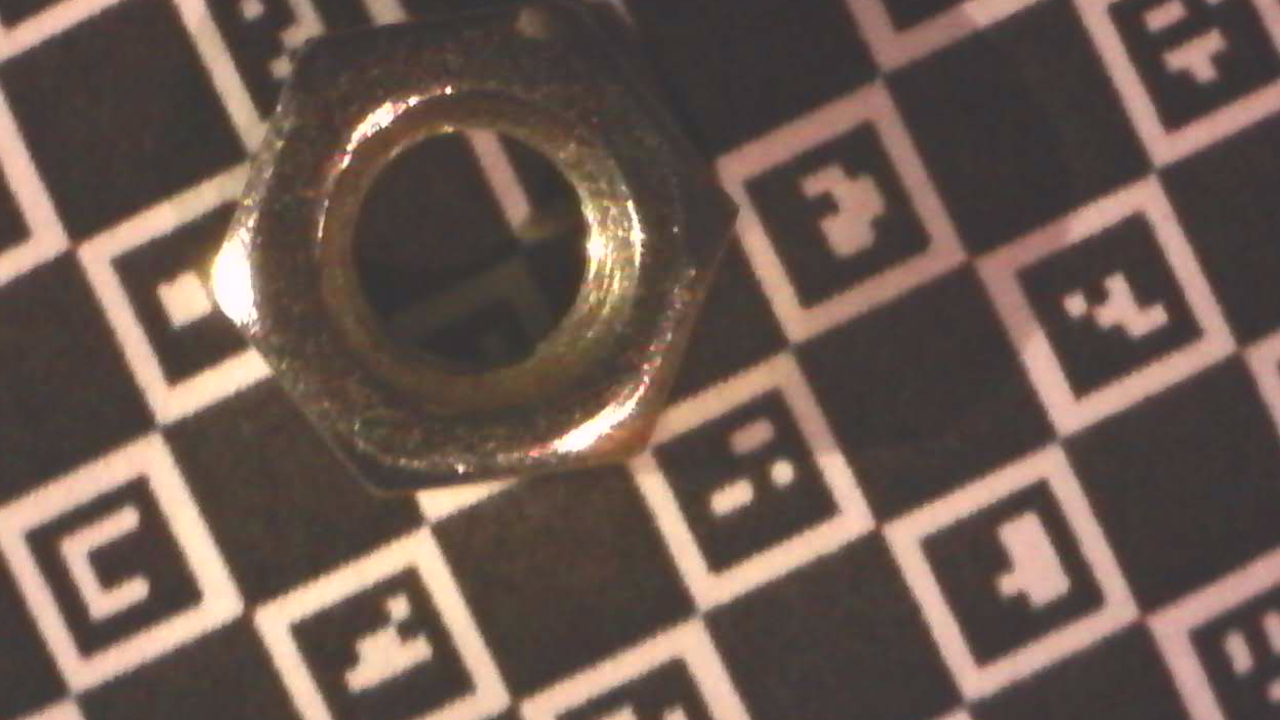Bolt: (205, 0, 741, 503)
